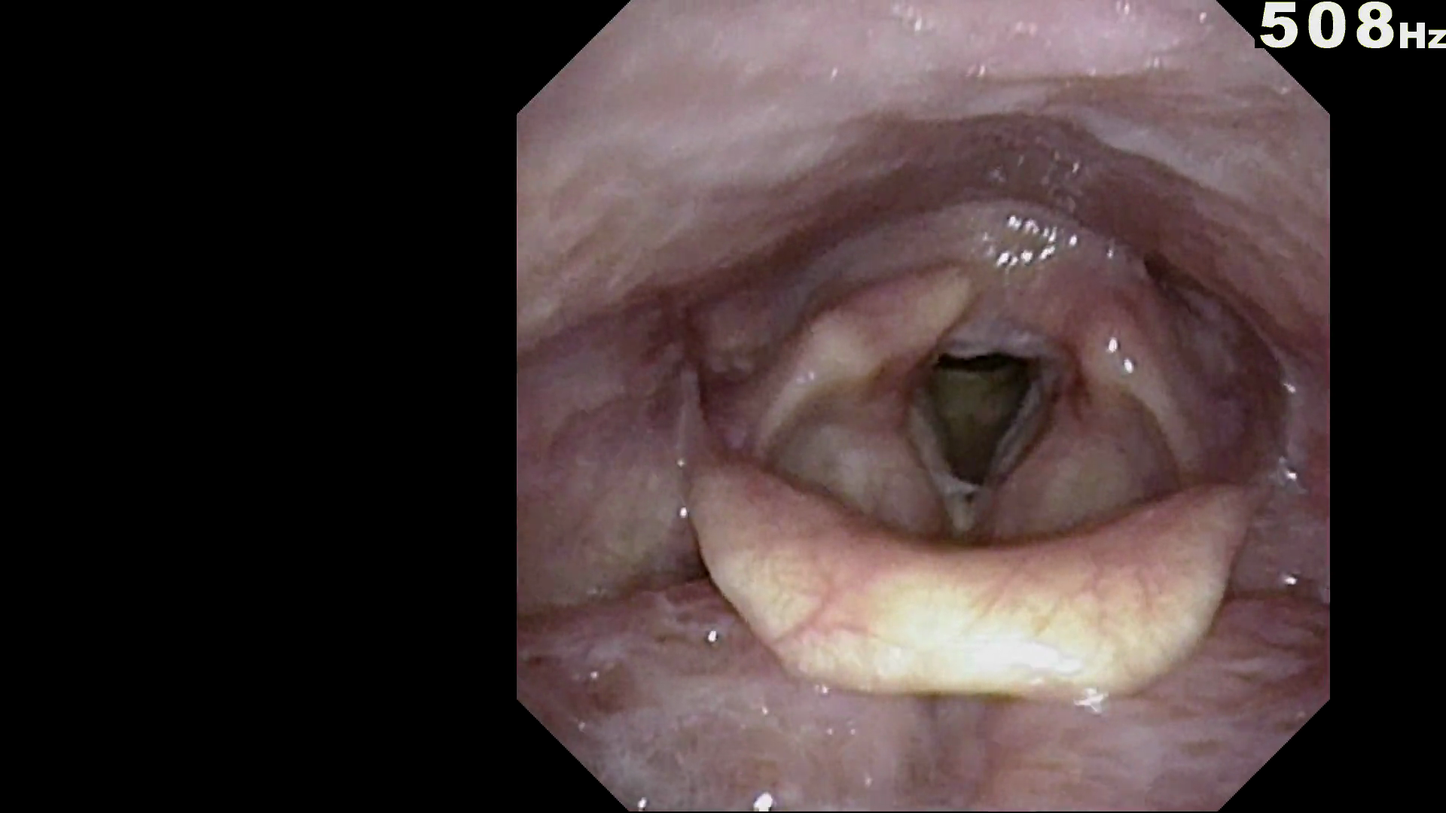epiglottis: (666, 405, 1274, 727)
trachea: (862, 315, 1083, 538)
